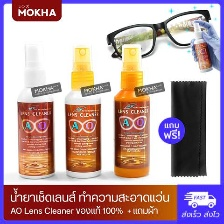cleaning_solution: (15, 40, 57, 180), (111, 43, 153, 179), (61, 44, 103, 179), (190, 20, 214, 74)
